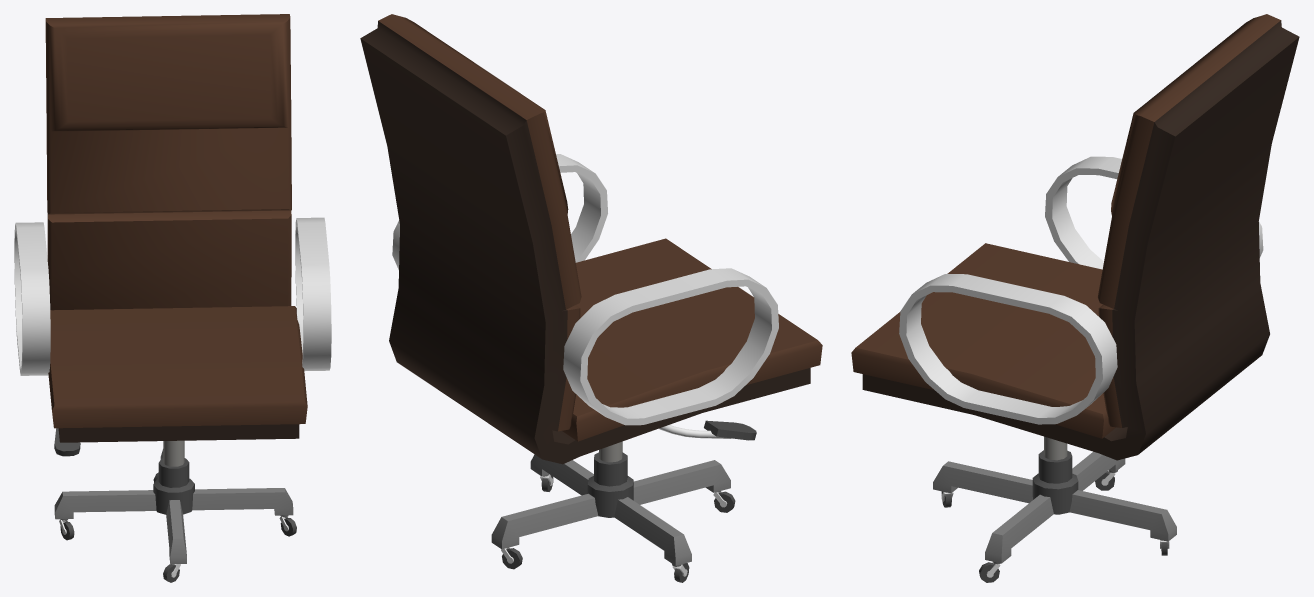
Rendered from office-chair-60s--1.gltf.
3 renders of one model, left to right at view 1: azimuth 30°, elevation 25°; view 2: azimuth 150°, elevation 25°; view 3: azimuth 270°, elevation 25°, orthographic. The views are drawn at different scales.
Parts seen in each view (by area): view 1: Cube.021; view 2: Cube.021; view 3: Cube.021.
Part boxes in pixels (x1,y1,x2,y2): Cube.021: [14, 14, 331, 582]; Cube.021: [360, 14, 822, 582]; Cube.021: [851, 14, 1299, 582].
Bounding box in the file's own units: 0.8598 × 1.14 × 0.9218.
